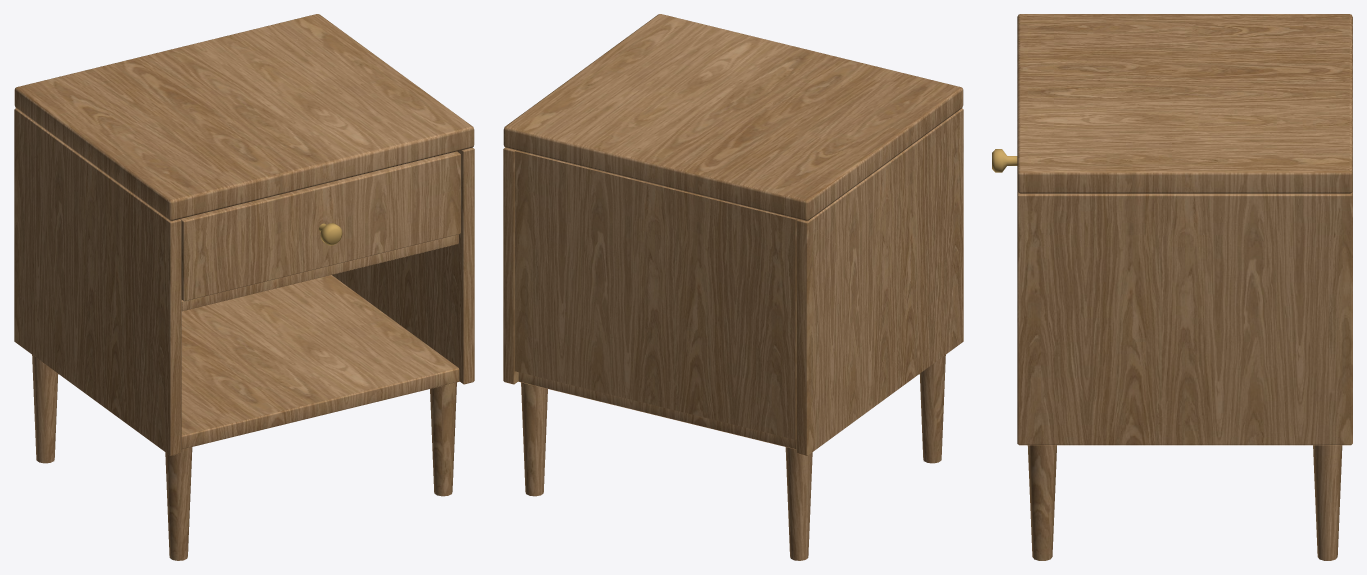
The model's file is ap_nightstand.glb.
3 views of the same model, side by side, from view 1: azimuth 30°, elevation 25°; view 2: azimuth 150°, elevation 25°; view 3: azimuth 270°, elevation 25° (orthographic). The views are drawn at different scales.
Visible parts, largest first — view 1: ap_nightstand, drawer; view 2: ap_nightstand; view 3: ap_nightstand.
Boxes of the visible parts, x1=… form: ap_nightstand: x1=14, y1=14, x2=474, y2=560; drawer: x1=180, y1=151, x2=460, y2=301; ap_nightstand: x1=503, y1=14, x2=963, y2=560; ap_nightstand: x1=1017, y1=14, x2=1352, y2=560.
Size of the model in its own units: 0.45 by 0.52 by 0.43.
2 materials, 1 textured.
